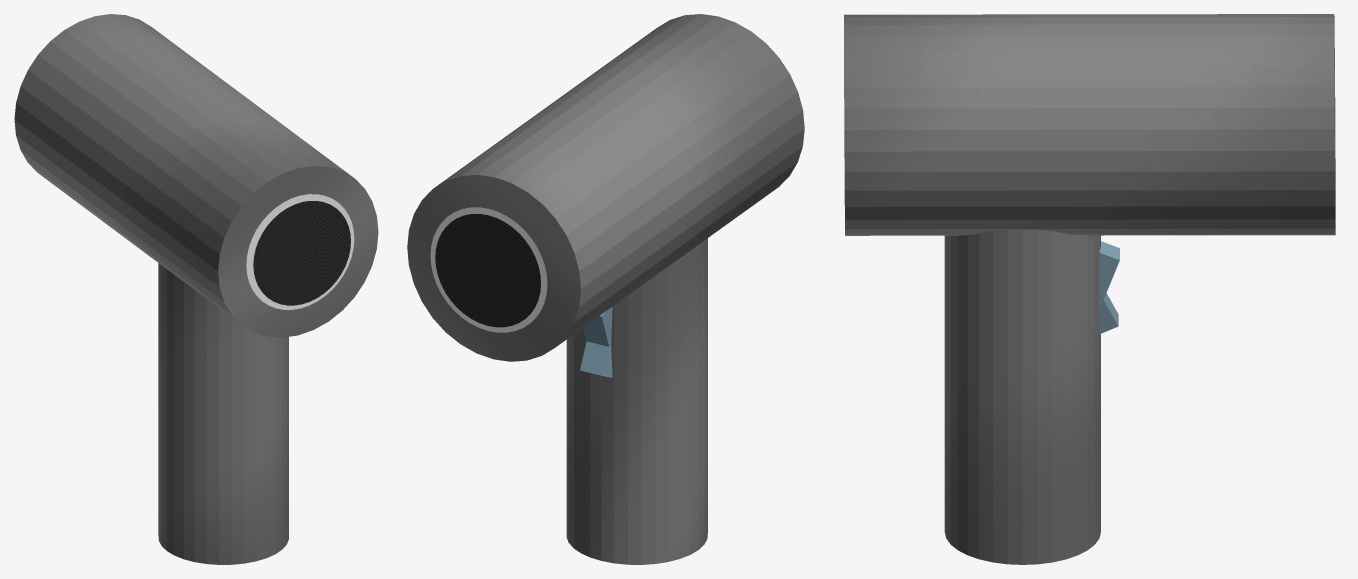
The model's file is blower_01s.fbx.
The picture shows the model from 3 angles, left to right: view 1: azimuth 30°, elevation 25°; view 2: azimuth 150°, elevation 25°; view 3: azimuth 270°, elevation 25°; orthographic projection. The views are drawn at different scales.
Visible parts, largest first — view 1: 柱体.002, 柱体, 圆环.003, 圆环.002; view 2: 柱体.002, 柱体, 圆环.001, 圆环, 立方体.001, 立方体; view 3: 柱体.002, 柱体, 立方体.
Part boxes in pixels (box(x1,y1,x2,y2)): 柱体.002: box(14, 14, 378, 337); 柱体: box(158, 263, 288, 564); 圆环.003: box(253, 201, 350, 305); 圆环.002: box(246, 194, 354, 309); 柱体.002: box(407, 14, 804, 361); 柱体: box(566, 238, 707, 564); 圆环.001: box(435, 214, 540, 327); 圆环: box(430, 207, 547, 332); 立方体.001: box(580, 341, 612, 377); 立方体: box(583, 307, 612, 346); 柱体.002: box(844, 14, 1335, 235); 柱体: box(944, 229, 1100, 564); 立方体: box(1098, 241, 1119, 311).
Bounding box in the file's own units: 137 × 345 × 314.
8 materials, 8 textured.
